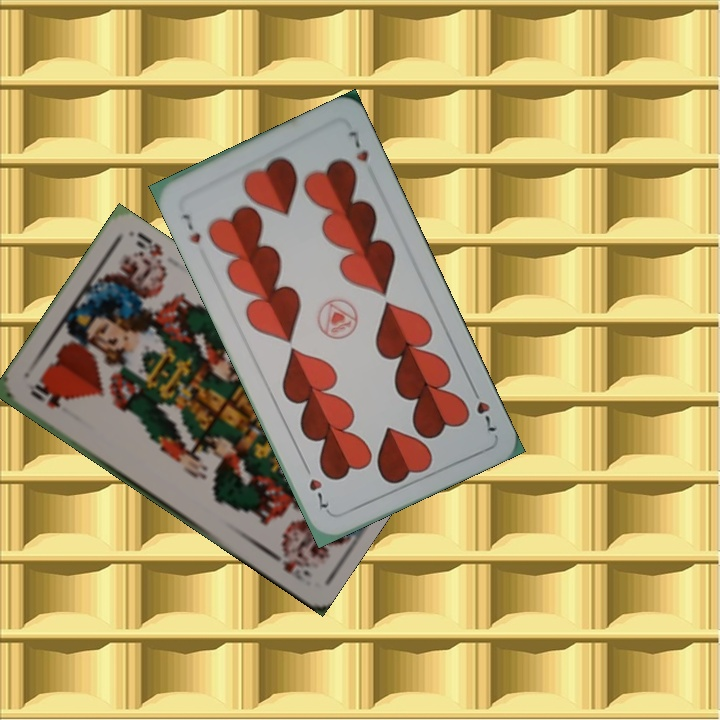H7: (466, 381, 500, 436), (178, 209, 204, 246)
HO: (25, 380, 64, 411)
